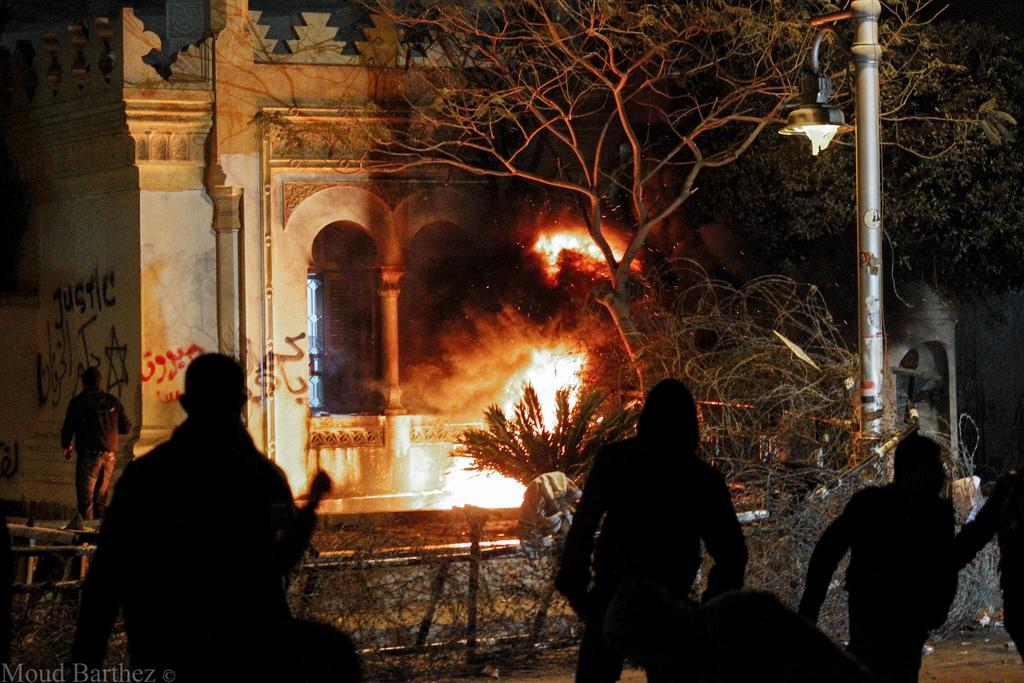fire: (460, 330, 595, 438), (530, 233, 650, 270)
